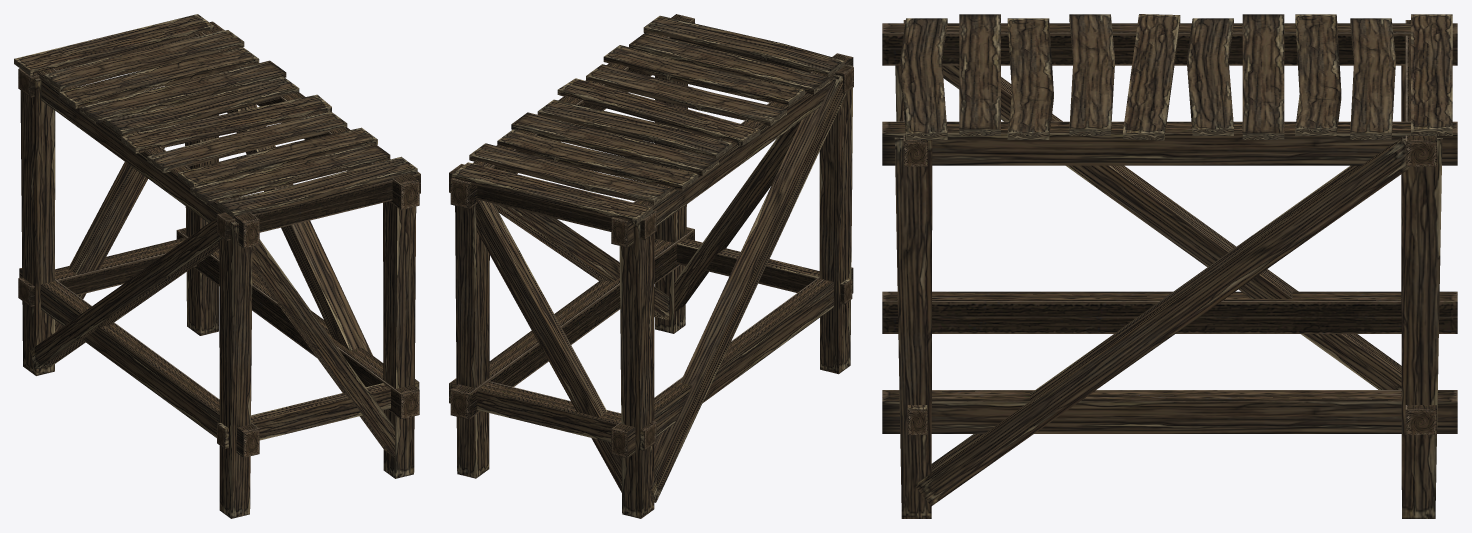
The model's file is Wood_4X6X8_01.fbx.
The picture shows the model from 3 angles, left to right: view 1: azimuth 30°, elevation 25°; view 2: azimuth 150°, elevation 25°; view 3: azimuth 270°, elevation 25°; orthographic projection. The views are drawn at different scales.
Parts seen in each view (by area): view 1: Wood_4X6X8_01; view 2: Wood_4X6X8_01; view 3: Wood_4X6X8_01.
Part boxes in pixels (left/top/right/bottom): Wood_4X6X8_01: left=14, top=14, right=420, bottom=518; Wood_4X6X8_01: left=449, top=14, right=853, bottom=518; Wood_4X6X8_01: left=882, top=14, right=1457, bottom=518.
Size of the model in its own units: 4 by 5.97 by 8.
